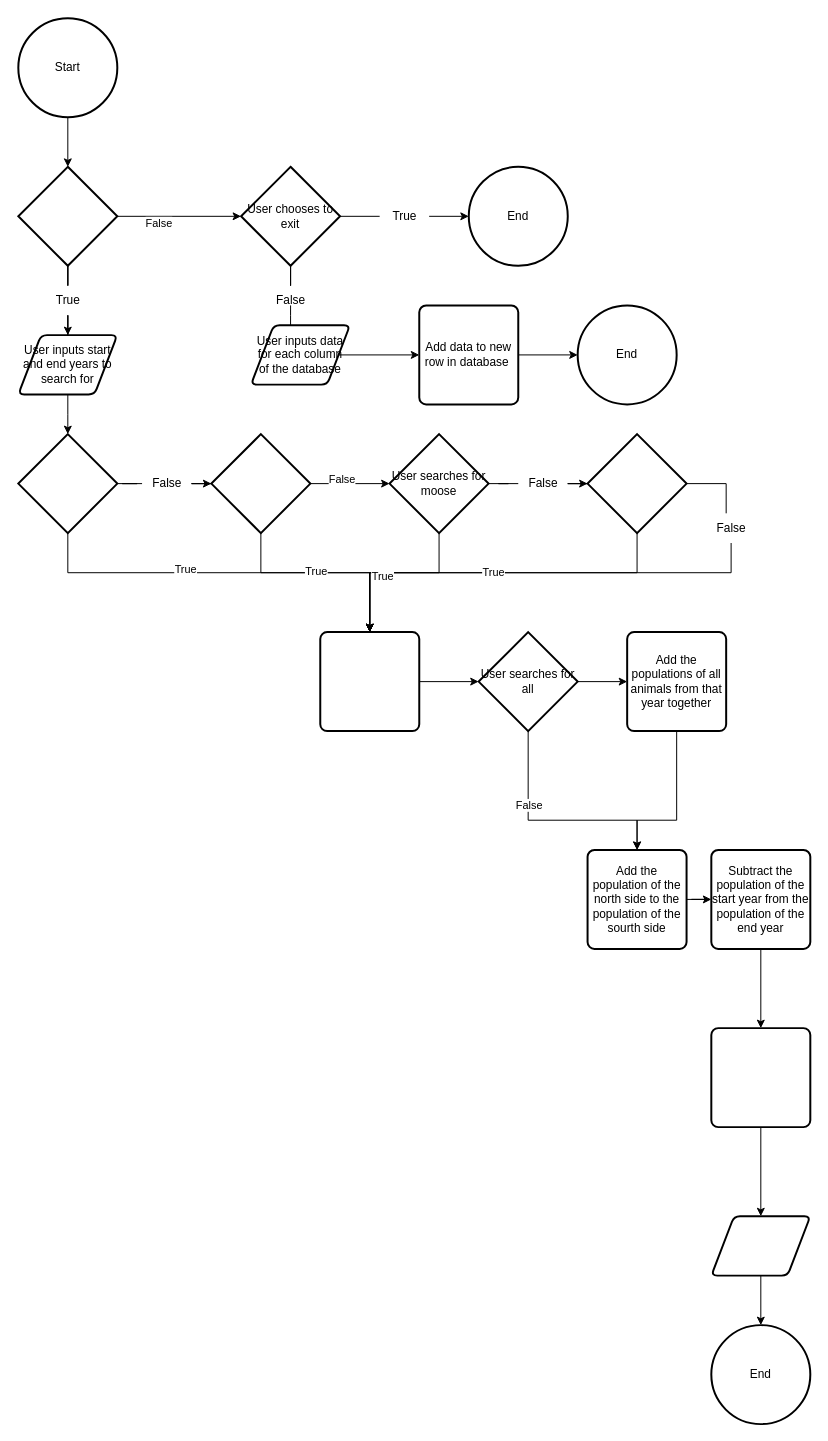
This 828x1441 diagram has some shape labels left out. Here are the shapes that lost their labels. From the top down, the centre of each, then its label:
the point at 67,215: User chooses to search for a year
the point at 67,483: User searches for bison
the point at 260,483: User searches for elk
the point at 636,483: User searches for deer
the point at 369,681: Search database for population of animal(s) of the start and end years
the point at 760,1077: Divide by the difference between the number of years (end year - start year)
the point at 760,1245: Display growth/year
